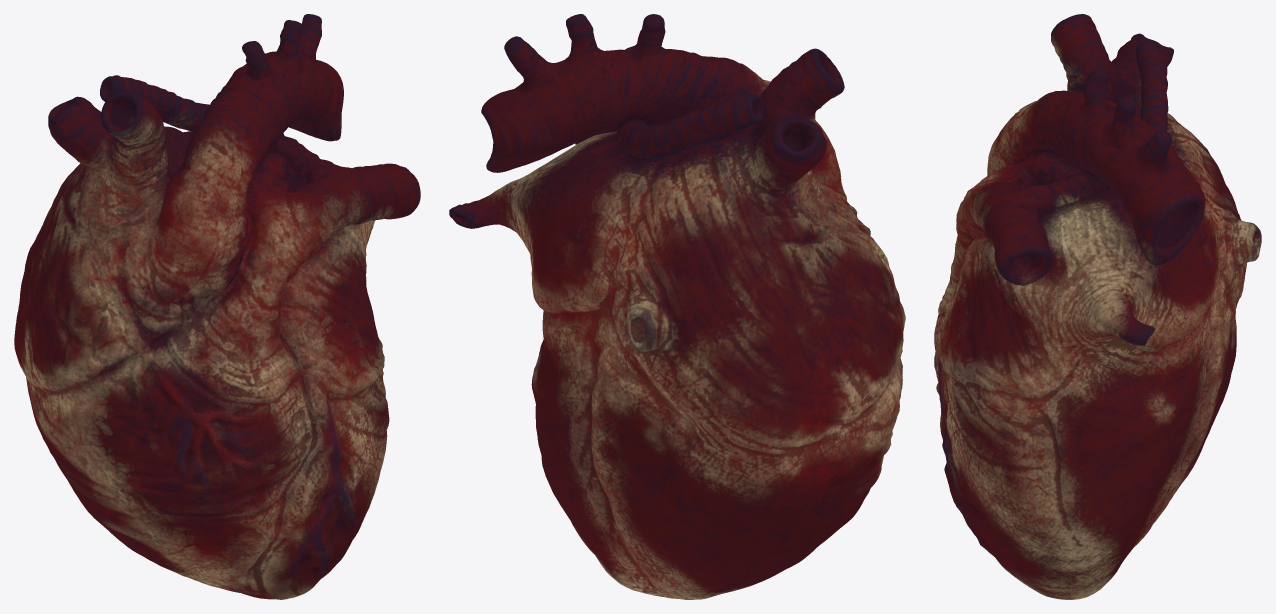
File: heart.glb
3 views of the same model, side by side, from view 1: azimuth 30°, elevation 25°; view 2: azimuth 150°, elevation 25°; view 3: azimuth 270°, elevation 25° (orthographic). The views are drawn at different scales.
Parts seen in each view (by area): view 1: hart_ZBrush_defualt_group1.001_hart_ZBrush_defualt_group1.00; view 2: hart_ZBrush_defualt_group1.001_hart_ZBrush_defualt_group1.00; view 3: hart_ZBrush_defualt_group1.001_hart_ZBrush_defualt_group1.00.
Part boxes in pixels (x1,y1,x2,y2): hart_ZBrush_defualt_group1.001_hart_ZBrush_defualt_group1.00: [14, 14, 420, 599]; hart_ZBrush_defualt_group1.001_hart_ZBrush_defualt_group1.00: [449, 14, 905, 599]; hart_ZBrush_defualt_group1.001_hart_ZBrush_defualt_group1.00: [934, 14, 1261, 599].
Bounding box in the file's own units: 0.8223 × 1.13 × 0.6499.
Materials: 1 (1 with a texture image).
